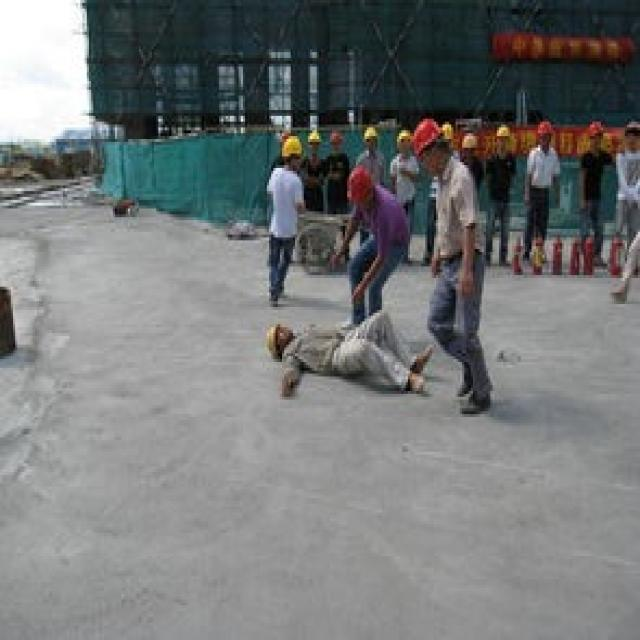10-: (247, 104, 638, 417)
down: (258, 298, 430, 412)
